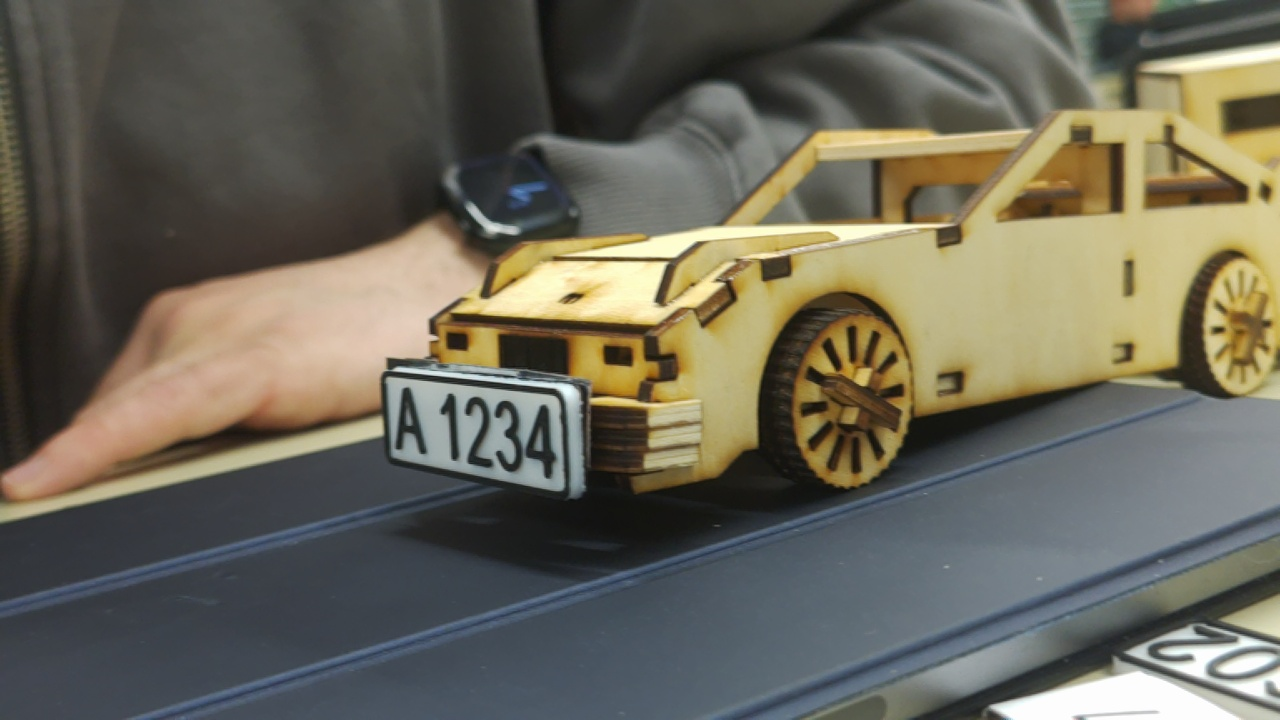license_plate: (370, 353, 594, 510)
